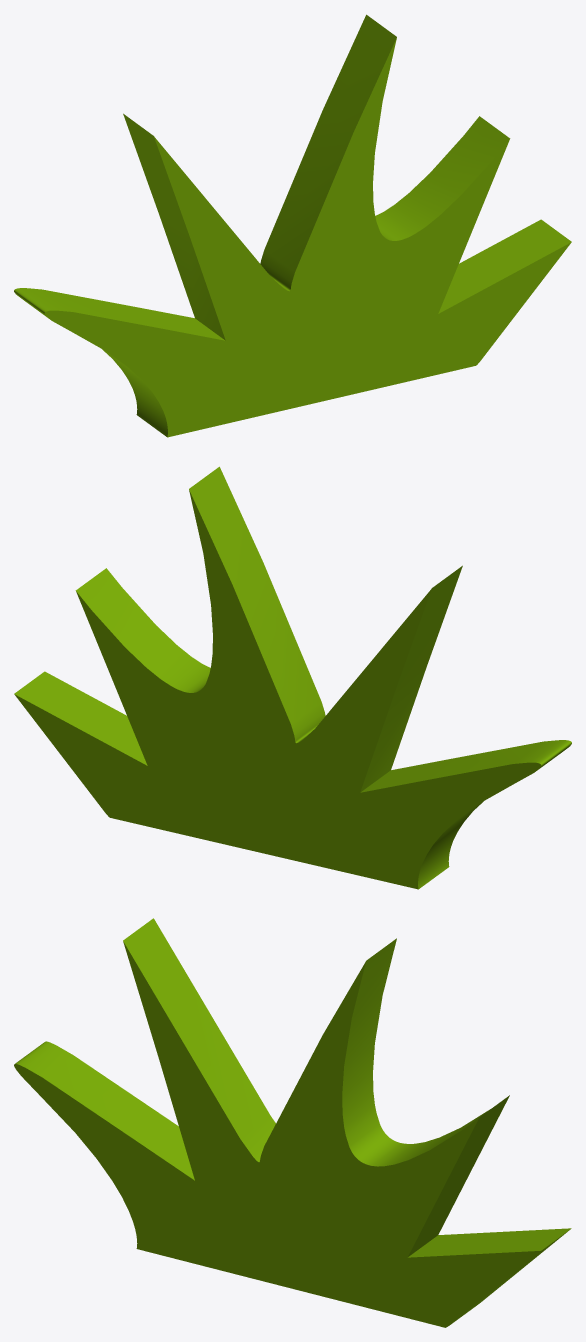
The model's file is grass.gltf.
3 renders of one model, top to bottom at view 1: azimuth 30°, elevation 25°; view 2: azimuth 150°, elevation 25°; view 3: azimuth 330°, elevation 25°, orthographic.
Visible parts, largest first — view 1: Extrude; view 2: Extrude; view 3: Extrude.
Part boxes in pixels (box(x1,y1,x2,y2)): Extrude: box(14, 14, 571, 437); Extrude: box(14, 466, 571, 889); Extrude: box(14, 918, 571, 1327).
Size of the model in its own units: 107 by 67.32 by 10.79.
